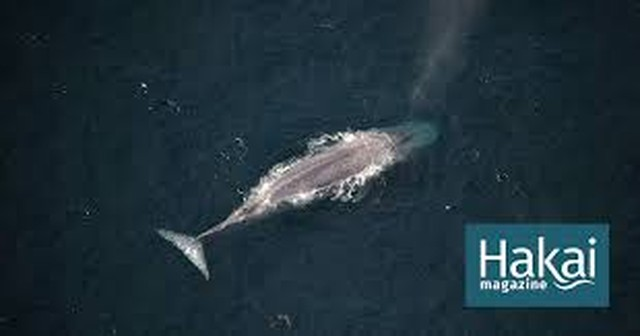whale: (155, 120, 439, 281)
